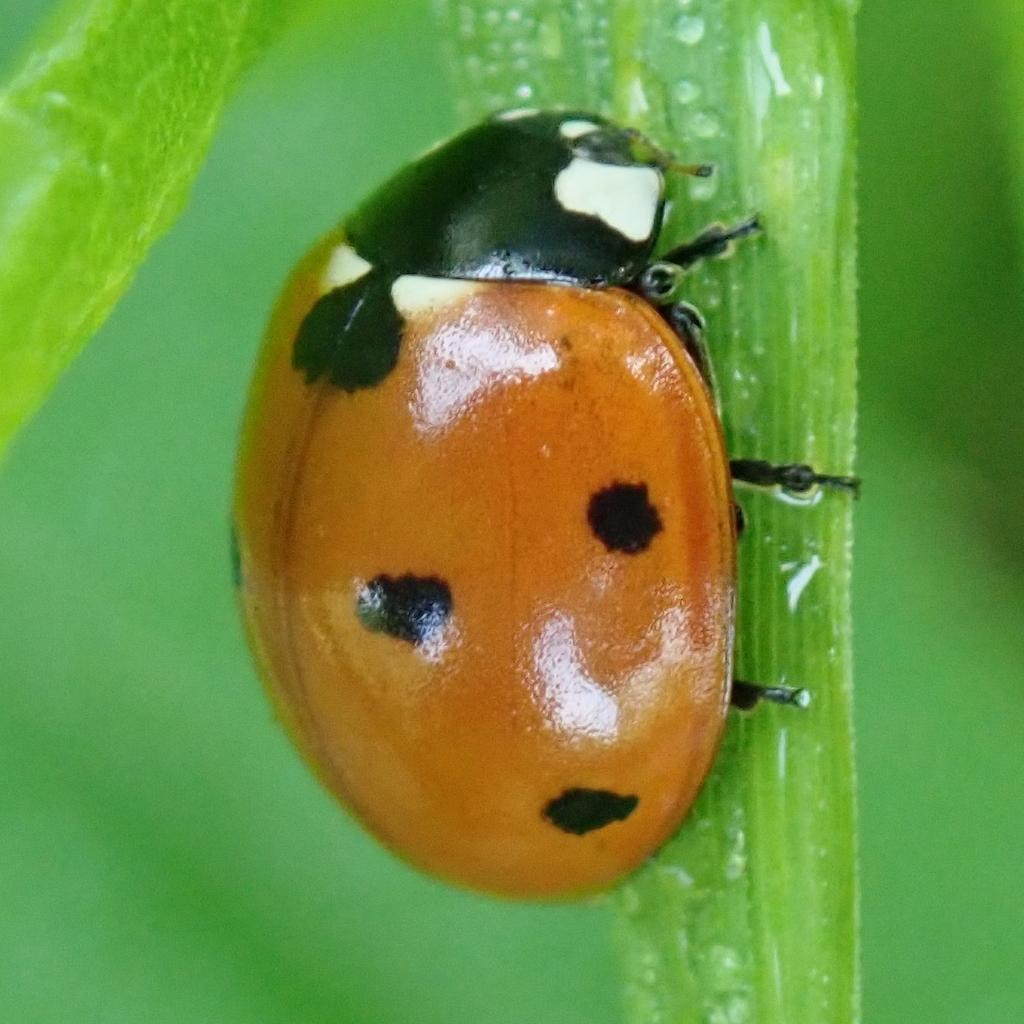ladybug: (226, 101, 866, 909)
